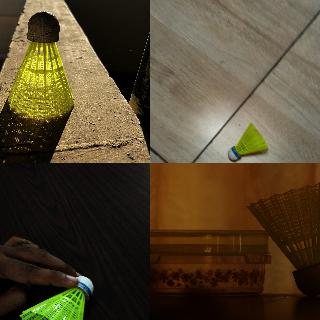shuttlecock: (246, 181, 319, 295), (8, 12, 74, 116), (19, 275, 94, 319), (228, 123, 267, 162)
